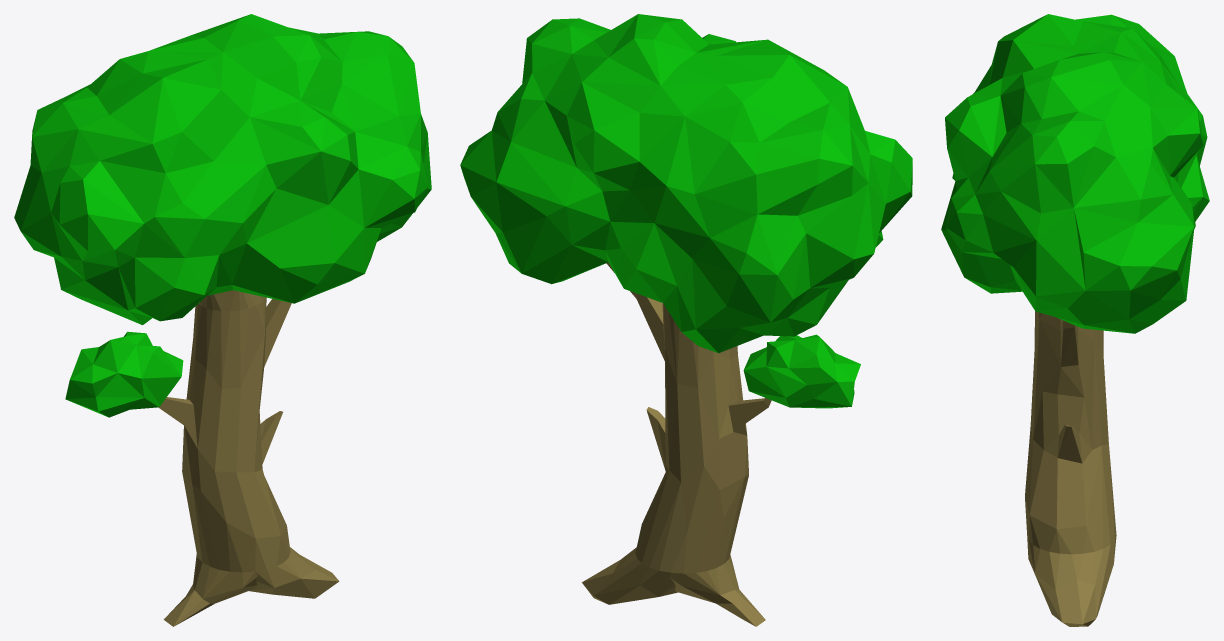
File: tree_1.fbx
3 renders of one model, left to right at view 1: azimuth 30°, elevation 25°; view 2: azimuth 150°, elevation 25°; view 3: azimuth 270°, elevation 25°, orthographic. The views are drawn at different scales.
Visible parts, largest first — view 1: tree1; view 2: tree1; view 3: tree1.
Part boxes in pixels (box(x1,y1,x2,y2)): tree1: box(14, 14, 431, 626); tree1: box(460, 14, 912, 626); tree1: box(941, 14, 1209, 626).
Size of the model in its own units: 170 by 107 by 240.
